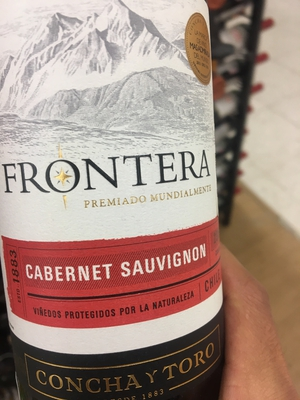frontera cabernet sauvignon: (1, 1, 218, 394)
